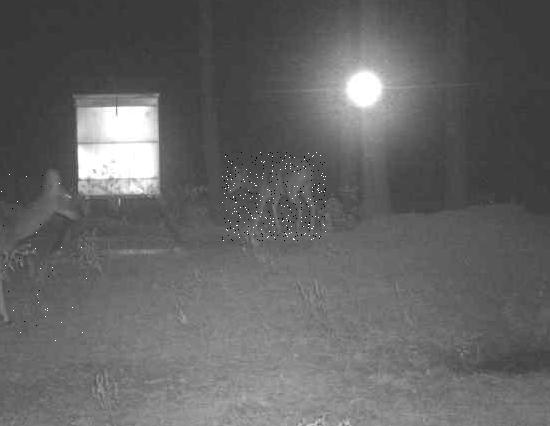Deer: (0, 162, 89, 342), (222, 152, 326, 241)
